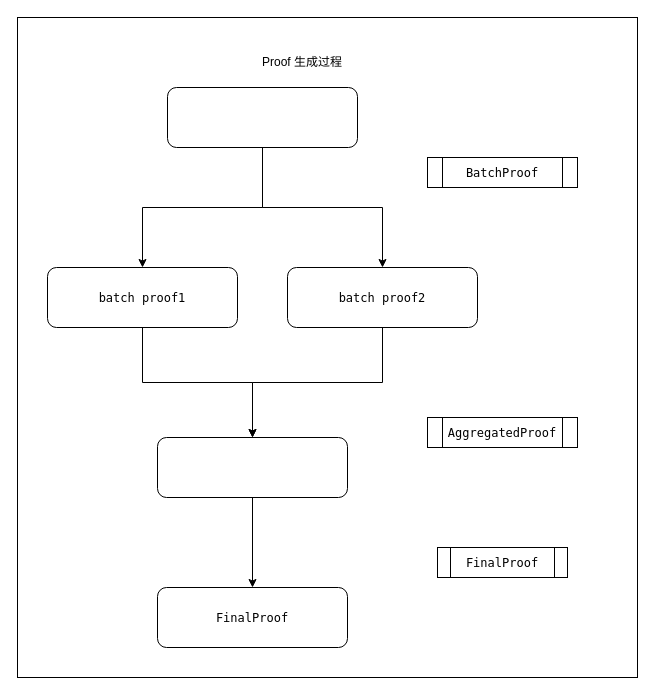
Some shapes in this 655 by 695 pixel diagram are drawn without their labels. Here are the shapes that lost their labels. From the top down, the box of each, then its label:
(166, 86, 358, 148): Batch
(156, 436, 348, 498): RecursiveProof
